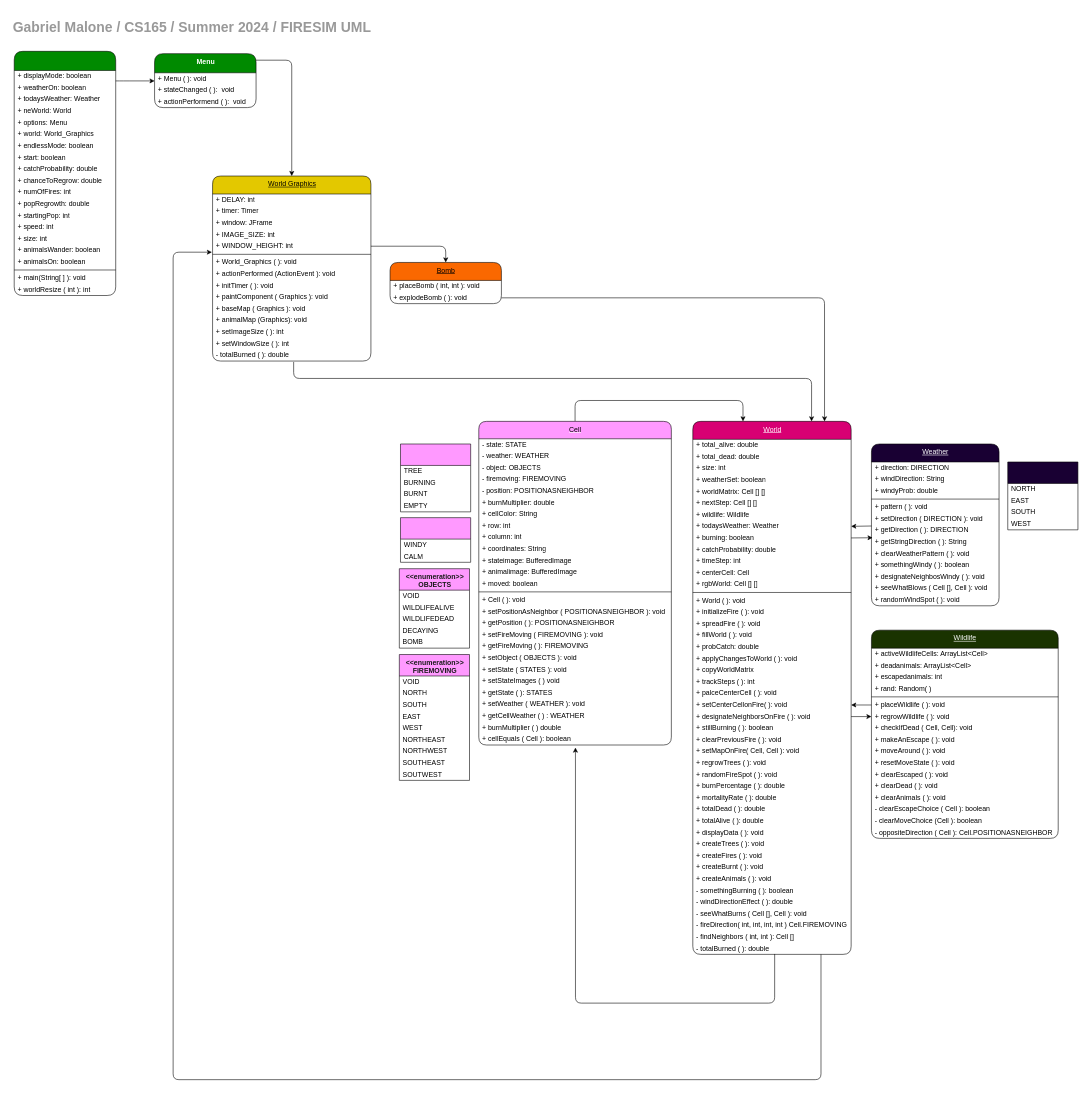
The diagram is 1088 pixels wide and 1094 high, and some of its shapes have lost their labels. Each missing label, with the box of its shape:
<<enumeration>> DIRECTION: (1007, 461, 1078, 530)
<<enumeration>> STATES: (400, 443, 471, 512)
<<enumeration>> WEATHER: (400, 517, 471, 562)
Driver: (14, 51, 116, 296)
